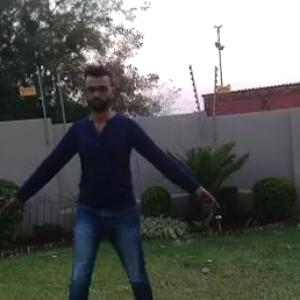land: (7, 72, 203, 299)
